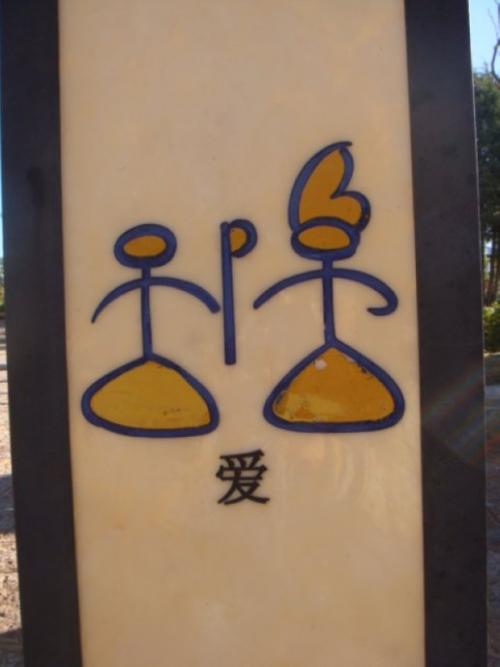chinese: (203, 444, 280, 512)
naxi: (80, 142, 407, 436)
